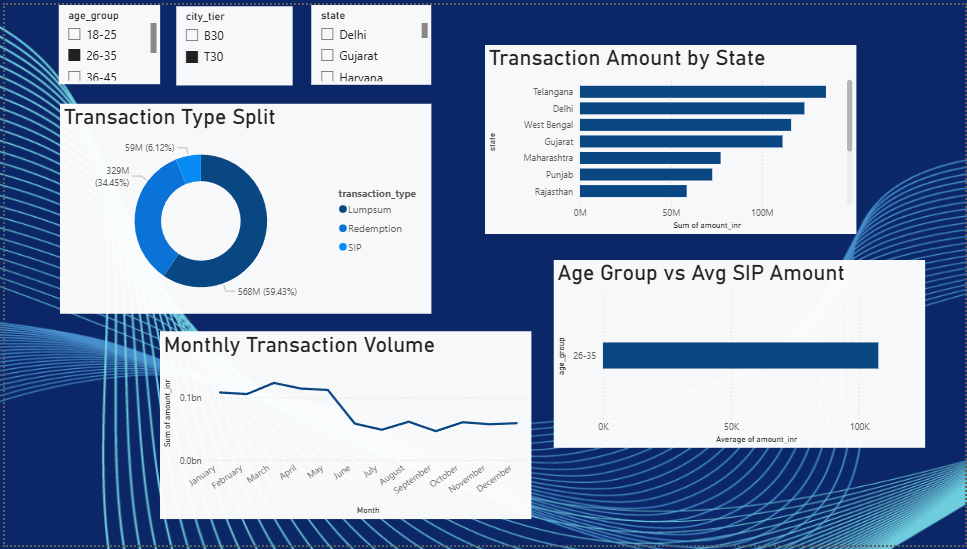

This screenshot's page, from the dashboard's own definition file:
{"tool":"powerbi","page":{"name":"Investor Analytics","canvas":[1280,720],"ordinal":2},"visuals":[{"type":"clusteredBarChart","title":"Transaction Amount by State","fields":{"Category":["08_investor_transactions_cleaned.state"],"Y":["Sum(08_investor_transactions_cleaned.amount_inr)"]},"box":[592.5,150,495,280],"z":0},{"type":"donutChart","title":"Transaction Type Split","fields":{"Y":["Sum(08_investor_transactions_cleaned.amount_inr)"],"Category":["08_investor_transactions_cleaned.transaction_type"]},"box":[72.5,150,495,280],"z":1000},{"type":"clusteredBarChart","title":"Age Group vs Avg SIP Amount","fields":{"Category":["08_investor_transactions_cleaned.age_group"],"Y":["Avg(08_investor_transactions_cleaned.amount_inr)"]},"box":[592.5,430,495,250],"z":2000},{"type":"slicer","title":"Monthly Transaction Volume","fields":{"Values":["08_investor_transactions_cleaned.state"]},"box":[785,0,495,135],"z":3000},{"type":"slicer","fields":{"Values":["08_investor_transactions_cleaned.age_group"]},"box":[72.5,0,340,150],"z":4000},{"type":"slicer","fields":{"Values":["08_investor_transactions_cleaned.city_tier"]},"box":[412.5,0,360,150],"z":4001},{"type":"lineChart","title":"Monthly Transaction Volume","fields":{"Category":["08_investor_transactions_cleaned.transaction_date.Variation.Date Hierarchy.Month"],"Y":["Sum(08_investor_transactions_cleaned.amount_inr)"]},"box":[72.5,430,495,250],"z":4002}]}

Visuals, with their boxes in screenshot pixels (x1, y1, x2, y2), scaled from the page's 1280x720 canvas onto the 967x549 screenshot:
"Transaction Amount by State" clusteredBarChart: rect(448, 114, 822, 328)
"Transaction Type Split" donutChart: rect(55, 114, 429, 328)
"Age Group vs Avg SIP Amount" clusteredBarChart: rect(448, 328, 822, 518)
"Monthly Transaction Volume" slicer: rect(593, 0, 966, 103)
slicer - 08_investor_transactions_cleaned.age_group: rect(55, 0, 312, 114)
slicer - 08_investor_transactions_cleaned.city_tier: rect(312, 0, 584, 114)
"Monthly Transaction Volume" lineChart: rect(55, 328, 429, 518)
